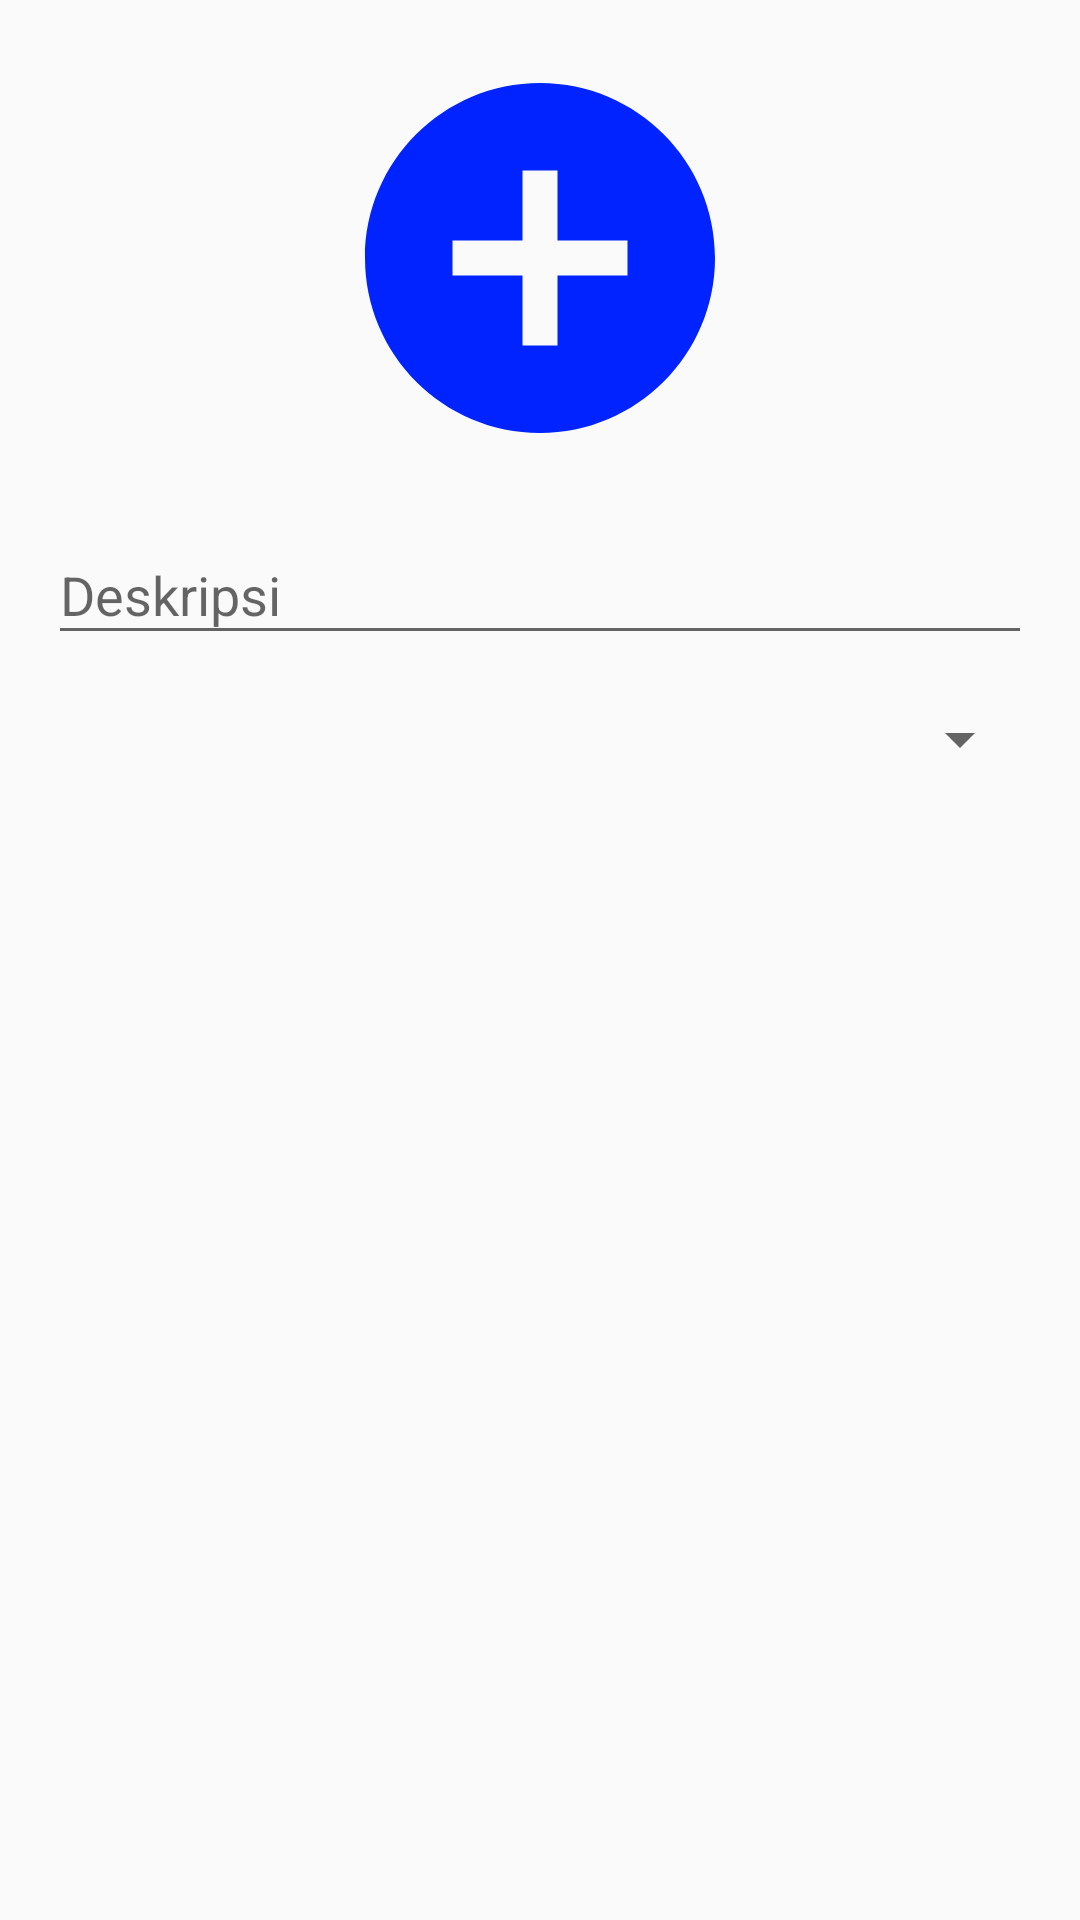

Point at icon controls on the screen. Image size 1080px×1920px, points as (x,y).
add circle: (540,258)
